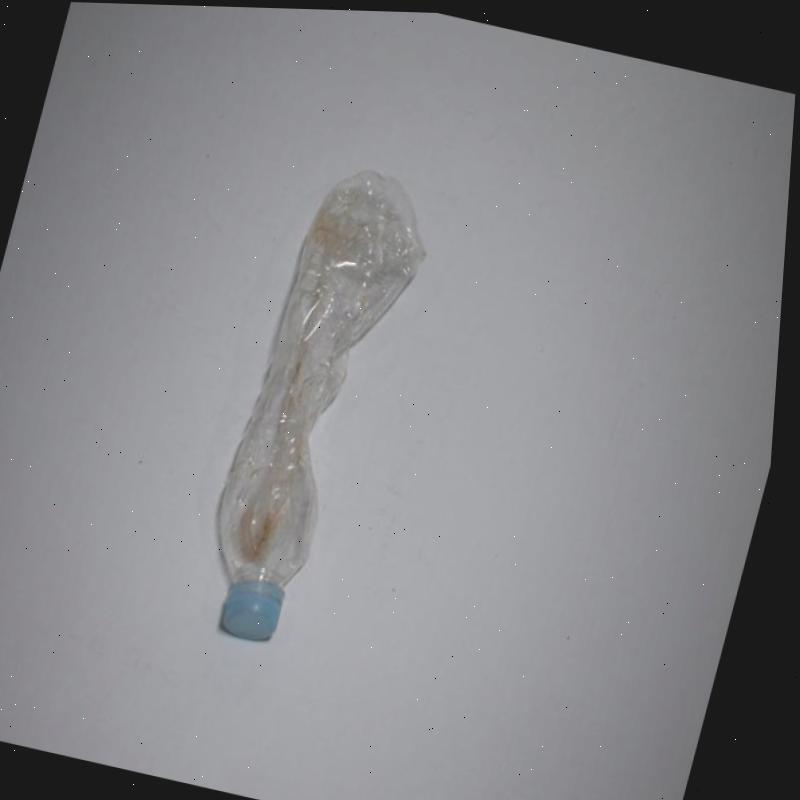botella: (194, 156, 445, 658)
